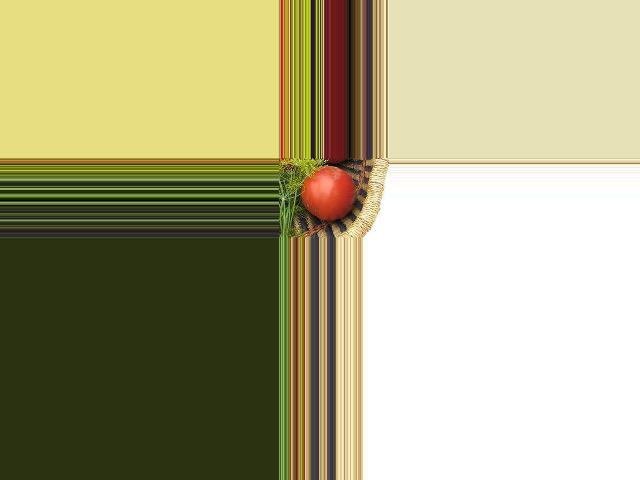tomato: (299, 166, 355, 220)
